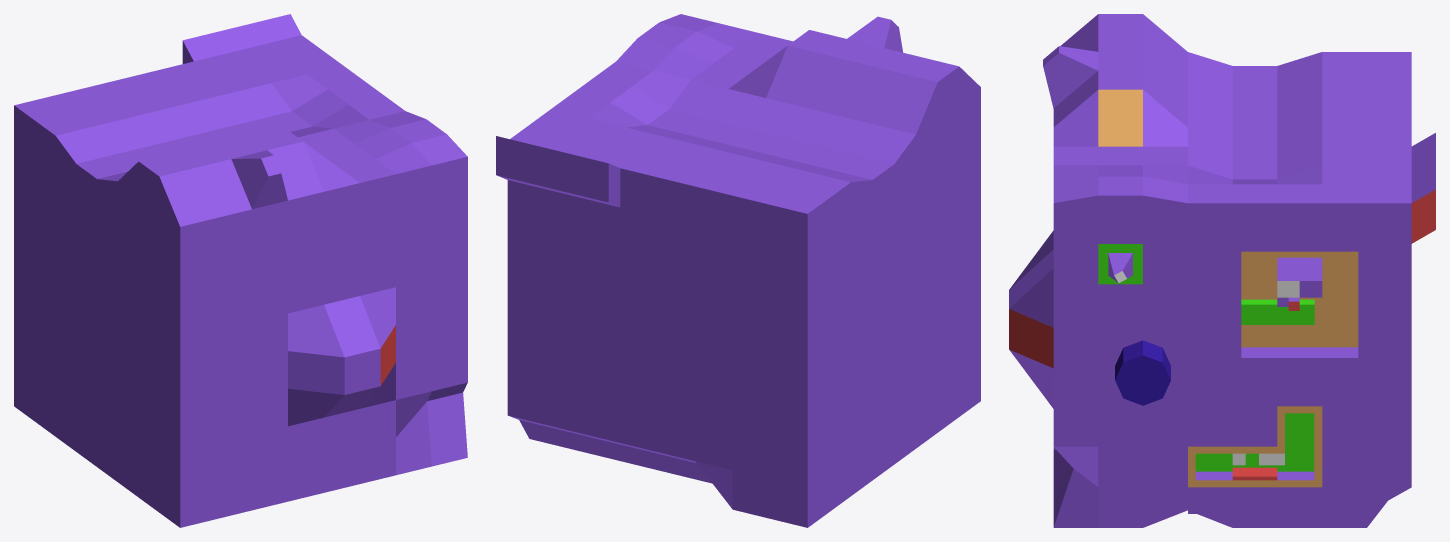
The model's file is MISC1.glb.
The picture shows the model from 3 angles, left to right: view 1: azimuth 30°, elevation 25°; view 2: azimuth 150°, elevation 25°; view 3: azimuth 270°, elevation 25°; orthographic projection. The views are drawn at different scales.
Parts seen in each view (by area): view 1: Misc1; view 2: Misc1; view 3: Misc1.
Boxes of the visible parts, x1,y1,x2,y2 form: Misc1: (14,14,467,527); Misc1: (496,14,980,527); Misc1: (1009,14,1435,527).
Bounding box in the file's own units: 2.23 × 2.57 × 2.38.
